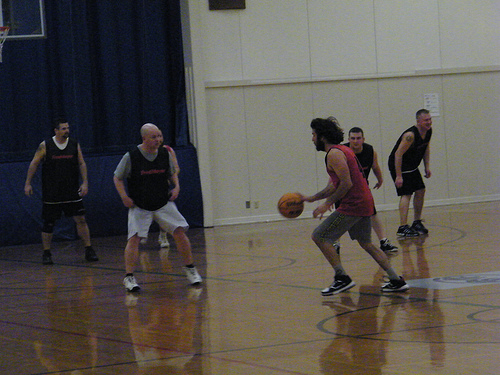basketball: (278, 192, 304, 218)
